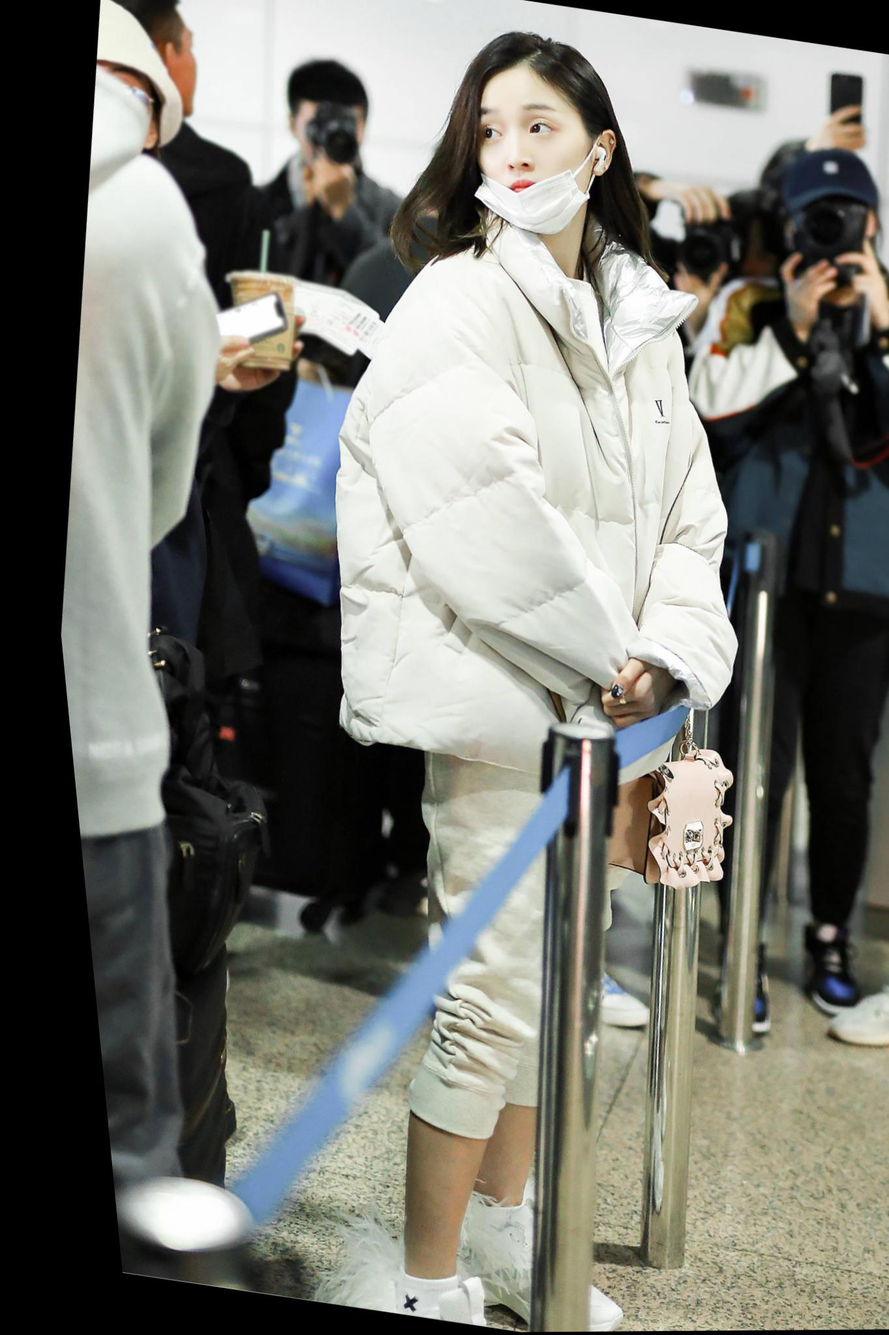WRONG: (450, 83, 605, 240)
